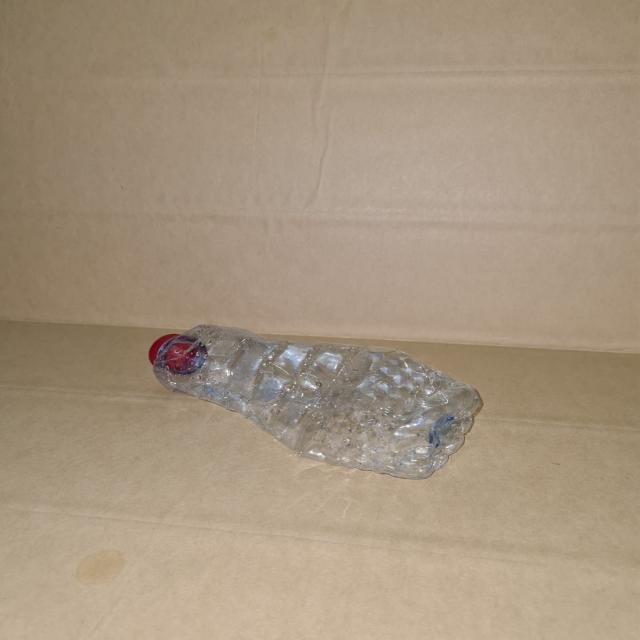chai: (149, 325, 482, 479)
